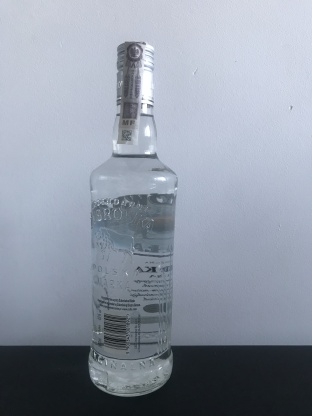nakretka: (113, 37, 156, 110)
